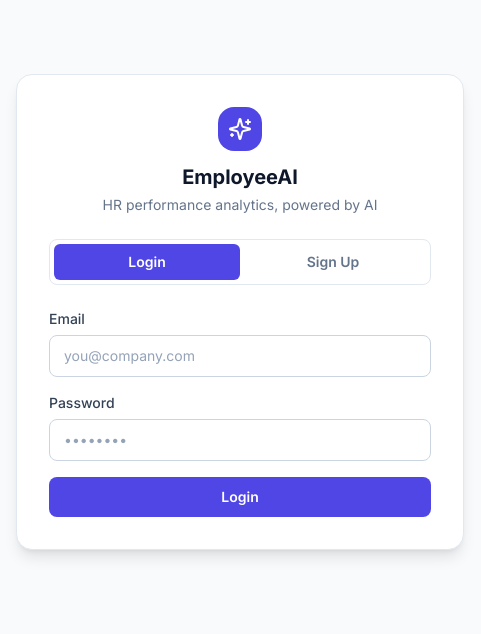
it: LoginPage › shows the Full Name field only in signup mode
Expected: the field labelled "full name" is not shown
Click the button "Sign Up". click: coordinates (333, 262)
box: [240,244,426,280]
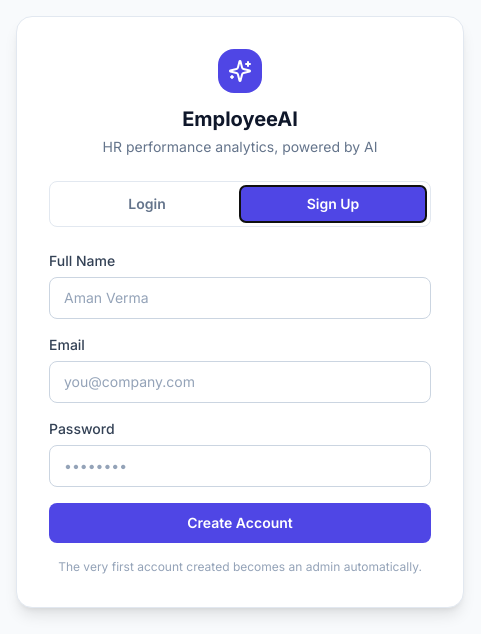
Now the field labelled "Full Name" is shown, box [49,277,431,319]
